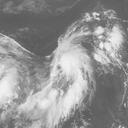cyclone: (45, 10, 117, 82)
